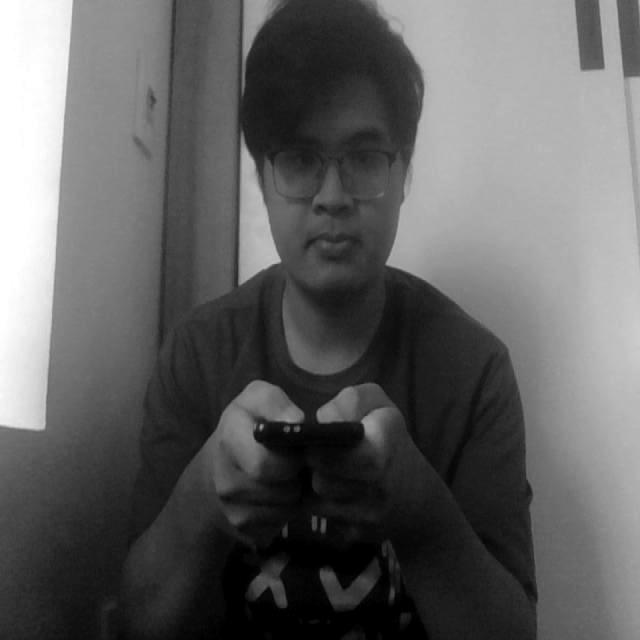phone: (250, 384, 372, 480)
